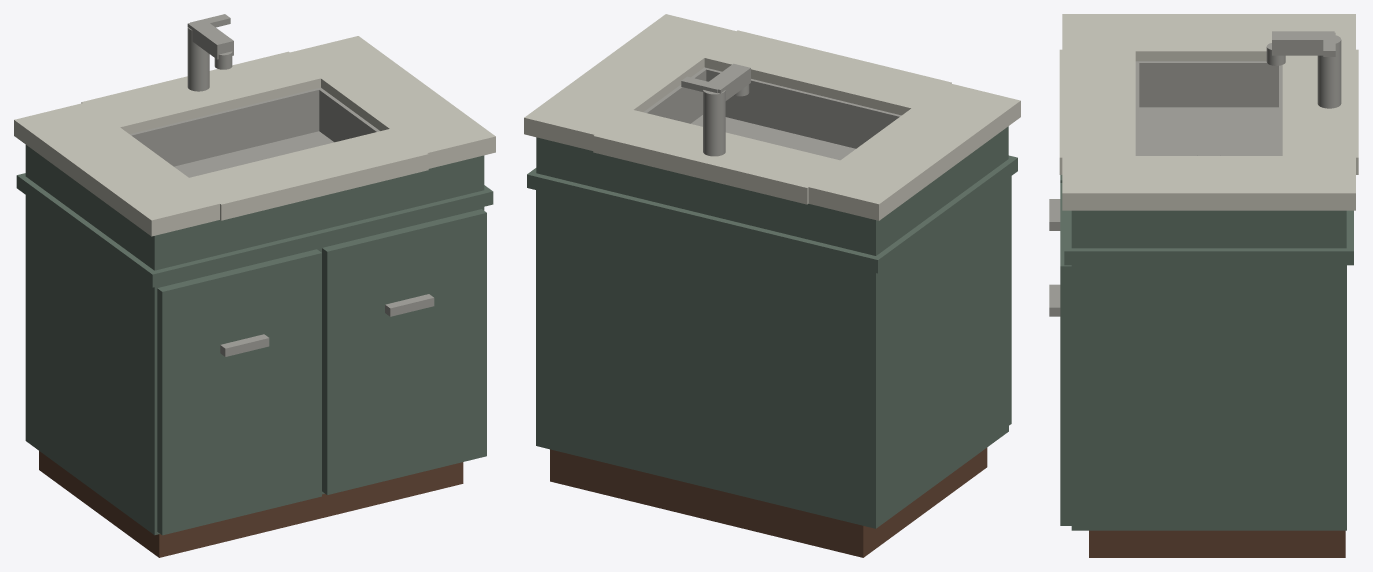
Rendered from kitchen_sink.glb.
The picture shows the model from 3 angles, left to right: view 1: azimuth 30°, elevation 25°; view 2: azimuth 150°, elevation 25°; view 3: azimuth 270°, elevation 25°; orthographic projection. The views are drawn at different scales.
Parts seen in each view (by area): view 1: Door.004, Door.005, Case.002, Counter wing, Under-counter rail, Counter wing.001, Counter rail, Plinth.002, Counter rail.001, Top.002, Basin end.001, Under-counter side (+6 smaller); view 2: Case.002, Counter wing, Plinth.002, Under-counter rail.001, Counter wing.001, Counter rail.001, Counter rail, Top.002, Basin end, Under-counter side, Basin bottom, Basin side.001 (+3 smaller); view 3: Case.002, Counter wing.001, Counter wing, Under-counter side.001, Counter rail, Plinth.002, Counter rail.001, Basin bottom, Basin side, Top.002, Door.005, Faucet stem (+5 smaller).
Part boxes in pixels (x1=…): Door.004: x1=157, y1=249, x2=321, y2=535; Door.005: x1=322, y1=209, x2=486, y2=494; Case.002: x1=25, y1=195, x2=484, y2=535; Counter wing: x1=14, y1=103, x2=221, y2=236; Under-counter rail: x1=147, y1=155, x2=484, y2=270; Counter wing.001: x1=290, y1=36, x2=495, y2=168; Counter rail: x1=186, y1=128, x2=428, y2=220; Plinth.002: x1=39, y1=451, x2=463, y2=557; Counter rail.001: x1=81, y1=51, x2=323, y2=134; Top.002: x1=16, y1=173, x2=493, y2=287; Basin end.001: x1=130, y1=88, x2=319, y2=166; Under-counter side: x1=33, y1=150, x2=147, y2=264; Case.002: x1=536, y1=178, x2=1008, y2=528; Counter wing: x1=807, y1=83, x2=1020, y2=220; Plinth.002: x1=550, y1=447, x2=987, y2=557; Under-counter rail.001: x1=536, y1=137, x2=883, y2=255; Counter wing.001: x1=524, y1=14, x2=735, y2=150; Counter rail.001: x1=593, y1=109, x2=842, y2=204; Counter rail: x1=702, y1=30, x2=951, y2=115; Top.002: x1=527, y1=155, x2=1017, y2=273; Basin end: x1=703, y1=68, x2=901, y2=148; Under-counter side: x1=883, y1=132, x2=1001, y2=250; Basin bottom: x1=691, y1=115, x2=855, y2=160; Basin side.001: x1=643, y1=67, x2=707, y2=123; Case.002: x1=1071, y1=265, x2=1346, y2=530; Counter wing.001: x1=1062, y1=156, x2=1355, y2=210; Counter wing: x1=1062, y1=14, x2=1355, y2=61; Under-counter side.001: x1=1087, y1=210, x2=1331, y2=248; Counter rail: x1=1059, y1=49, x2=1135, y2=174; Plinth.002: x1=1089, y1=530, x2=1345, y2=557; Counter rail.001: x1=1282, y1=49, x2=1358, y2=174; Basin bottom: x1=1139, y1=107, x2=1278, y2=155; Basin side: x1=1136, y1=61, x2=1278, y2=107; Top.002: x1=1064, y1=210, x2=1353, y2=265; Door.005: x1=1060, y1=183, x2=1071, y2=525; Faucet stem: x1=1317, y1=35, x2=1341, y2=108.
Size of the model in its own units: 0.94 by 1.08 by 0.685.
